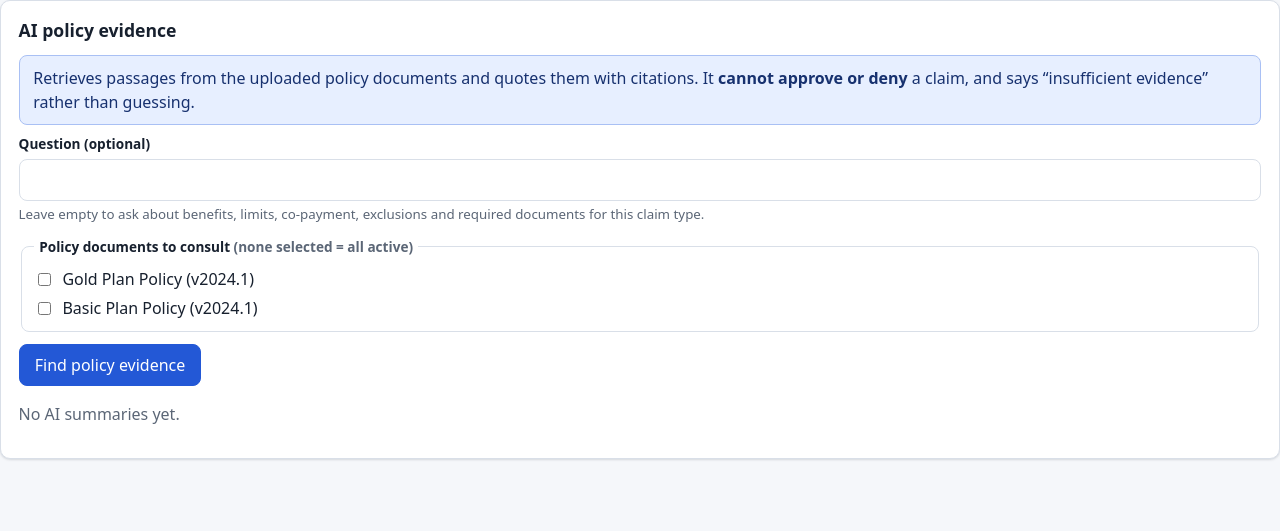
it: AiSummaryPanel › asks for the reviewer name before generating, then requests evidence for the chosen documents
Click the button "Find policy evidence" at (110, 364), box [19,344,202,386]
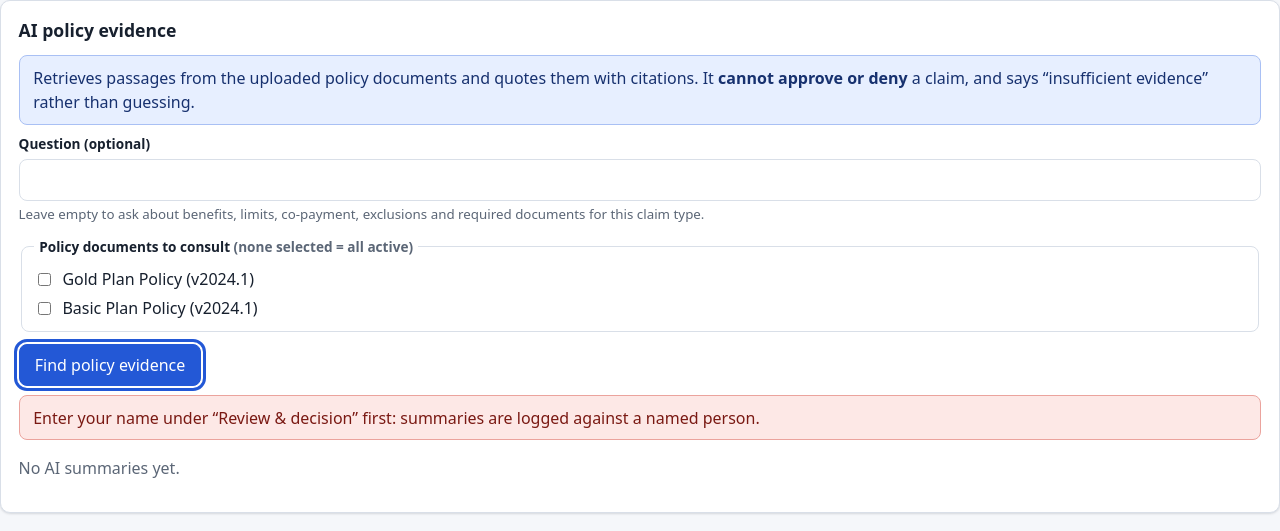
expect the text "Enter your name" is shown: met, box [33,407,760,429]
